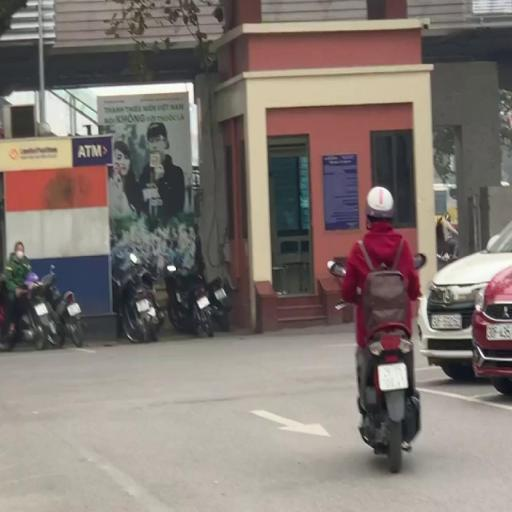bike: (333, 185, 426, 475)
numberplate: (377, 362, 409, 392), (137, 295, 150, 314), (196, 293, 210, 310), (67, 302, 81, 318), (35, 301, 48, 318), (214, 285, 226, 302)
with helmet: (364, 185, 396, 221)
